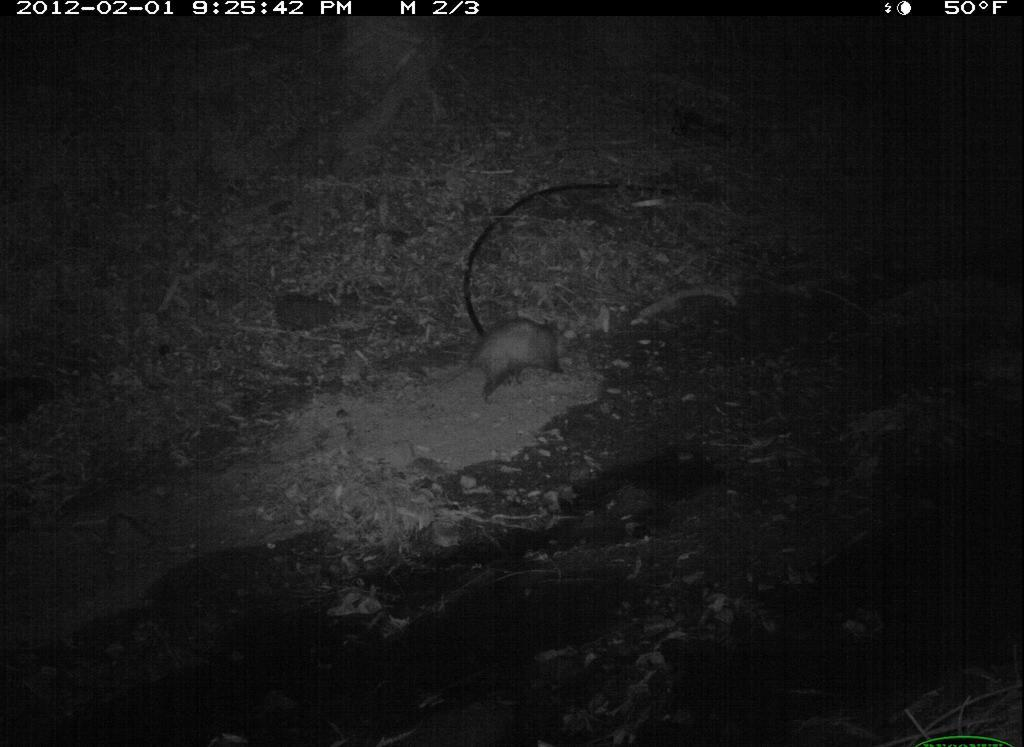opossum: (432, 318, 582, 410)
